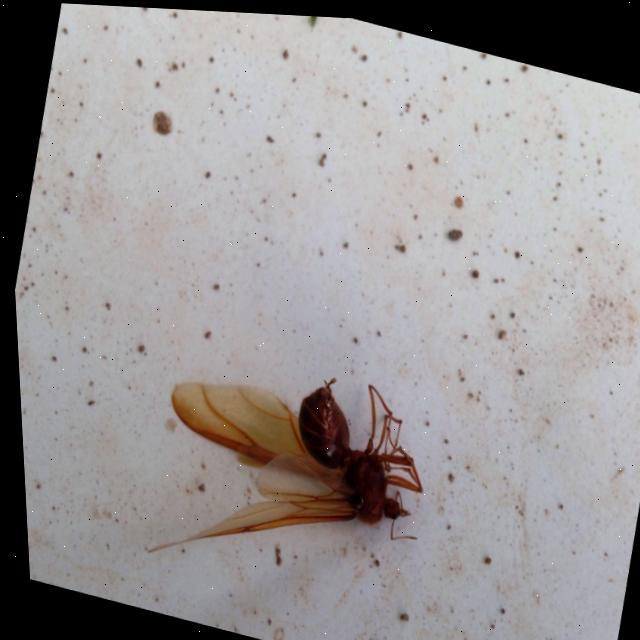Dead-Male-Alate: (131, 330, 444, 617)
